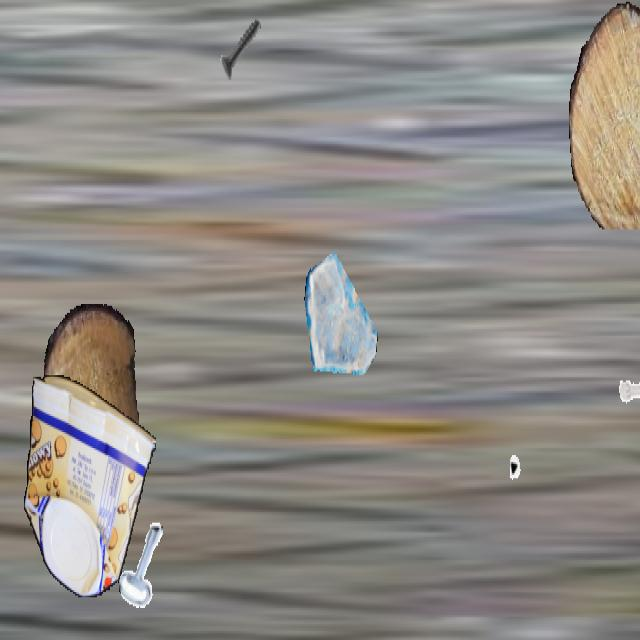glass: (304, 247, 378, 379)
metal: (510, 423, 572, 533), (215, 2, 267, 94), (118, 521, 170, 613), (613, 343, 640, 436)
plastic: (24, 375, 156, 596)
wood: (44, 304, 138, 489), (569, 2, 640, 229)
